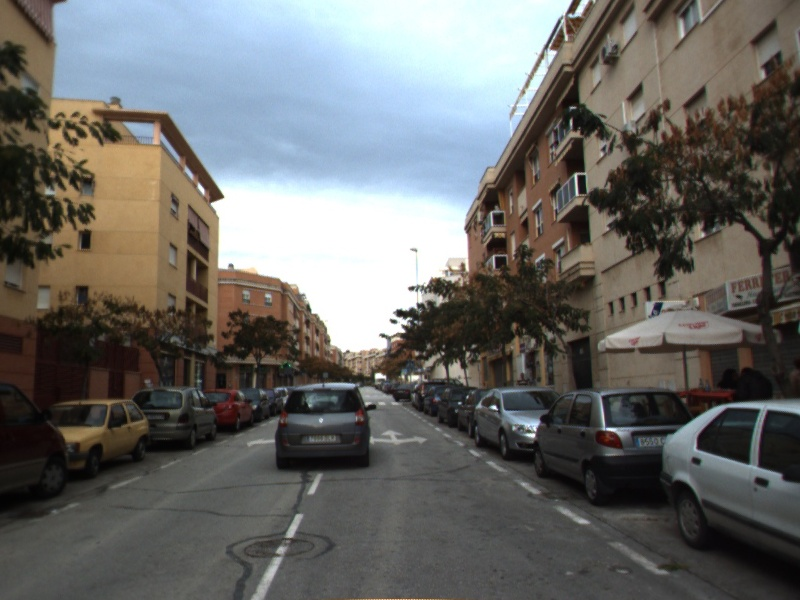STRAIGHT_LEFT_RIGHT: (369, 427, 430, 447)
